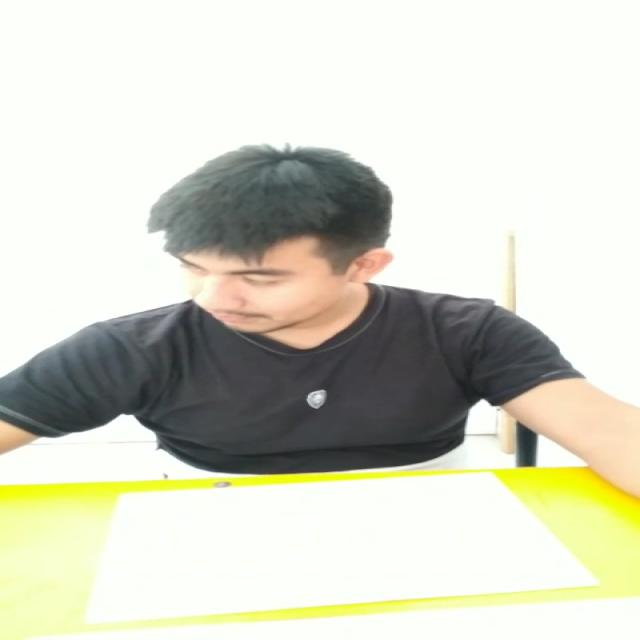9_cabeza_baja: (142, 143, 394, 338)
